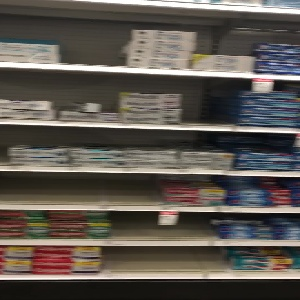void: (1, 172, 159, 208), (59, 2, 128, 70), (102, 246, 234, 274), (109, 211, 222, 240), (181, 75, 238, 128)
